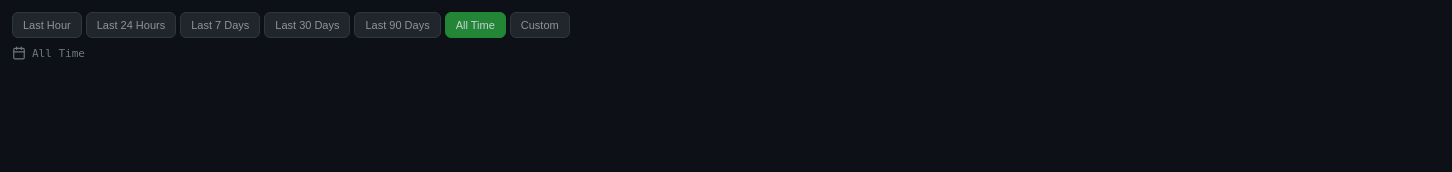
Scenario: TimeRangeSelector › custom date selection › should show custom inputs when Custom is clicked
Click the button "Custom".
click(540, 25)  # box x1=510 y1=12 x2=570 y2=38
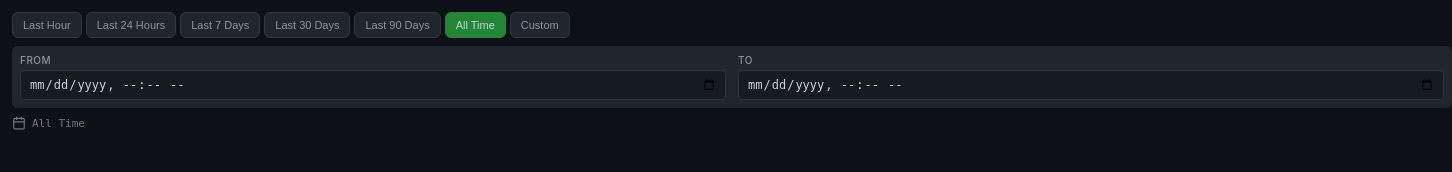
Expected: the text "From" is shown, x1=20 y1=54 x2=51 y2=66
Expected: the text "To" is shown, x1=738 y1=54 x2=753 y2=66
